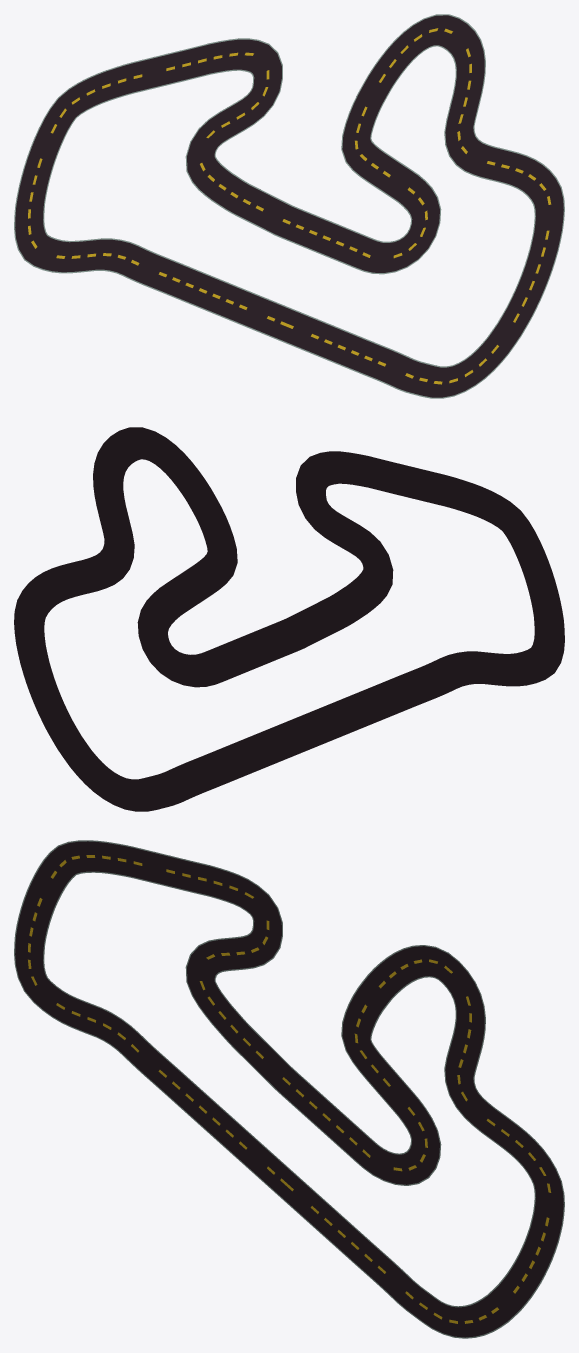
File: track.obj
3 renders of one model, top to bottom at view 1: azimuth 30°, elevation 25°; view 2: azimuth 150°, elevation 25°; view 3: azimuth 330°, elevation 25°, orthographic.
Bounding box in the file's own units: 19.42 × 13.91 × 0.002.
